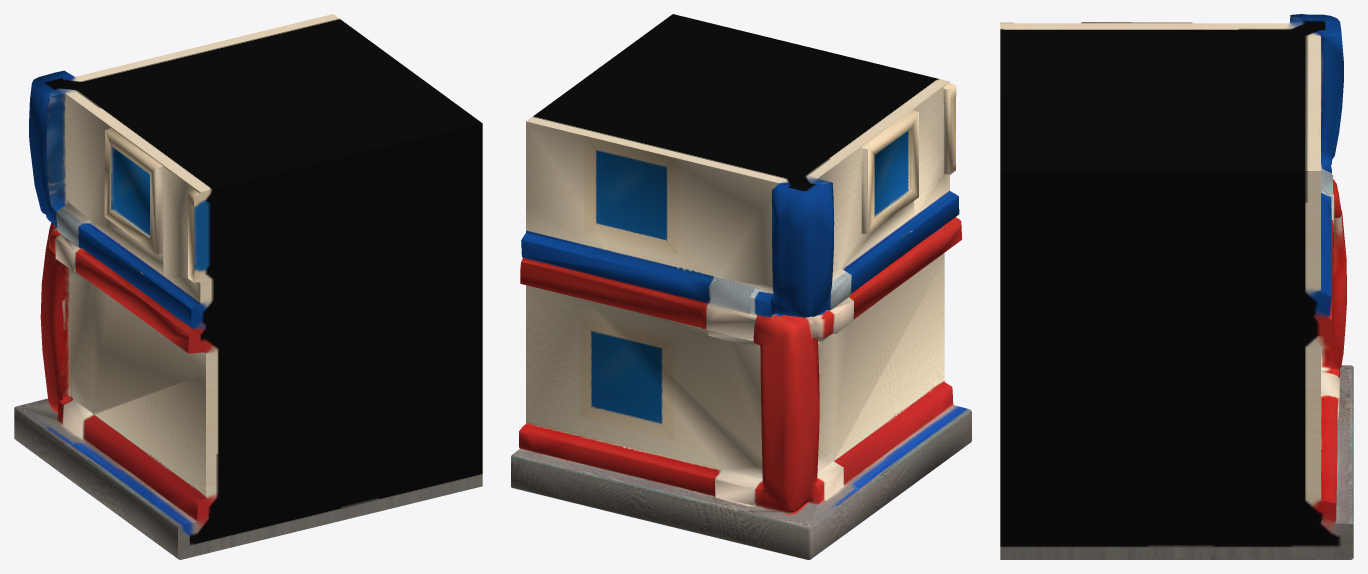
File: 3-ground-floor-back-left.fbx
3 views of the same model, side by side, from view 1: azimuth 30°, elevation 25°; view 2: azimuth 150°, elevation 25°; view 3: azimuth 270°, elevation 25° (orthographic). The views are drawn at different scales.
Visible parts, largest first — view 1: ground-floor-back-left; view 2: ground-floor-back-left; view 3: ground-floor-back-left.
Part boxes in pixels (box(x1,y1,x2,y2)): ground-floor-back-left: box(14, 14, 482, 559); ground-floor-back-left: box(511, 14, 971, 559); ground-floor-back-left: box(1000, 14, 1353, 559).
Size of the model in its own units: 9140 by 10402 by 8570.
1 material, 1 textured.
